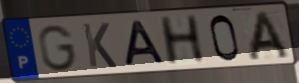0: (208, 12, 241, 63)
A: (247, 9, 292, 62), (123, 19, 167, 68)
G: (36, 23, 79, 73)
H: (156, 13, 208, 68)
K: (80, 21, 119, 69)
